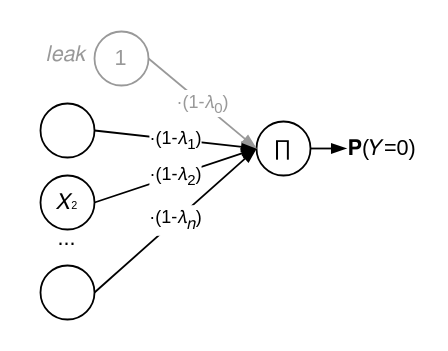
This 448x351 diagram has some shape labels left out. The centre of each missing label's shape, as x and y in pixels:
𝑋 1: [66,130]
𝑋 𝑛: [66,292]
